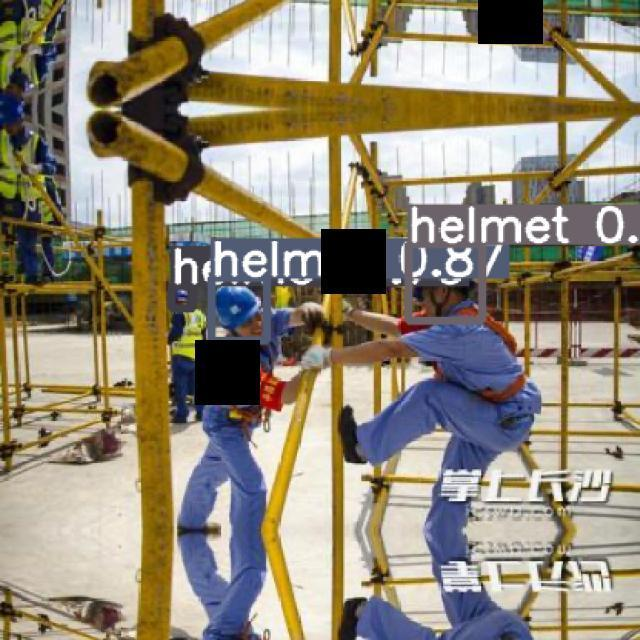blue helmet: (217, 284, 267, 330), (175, 288, 191, 303)
